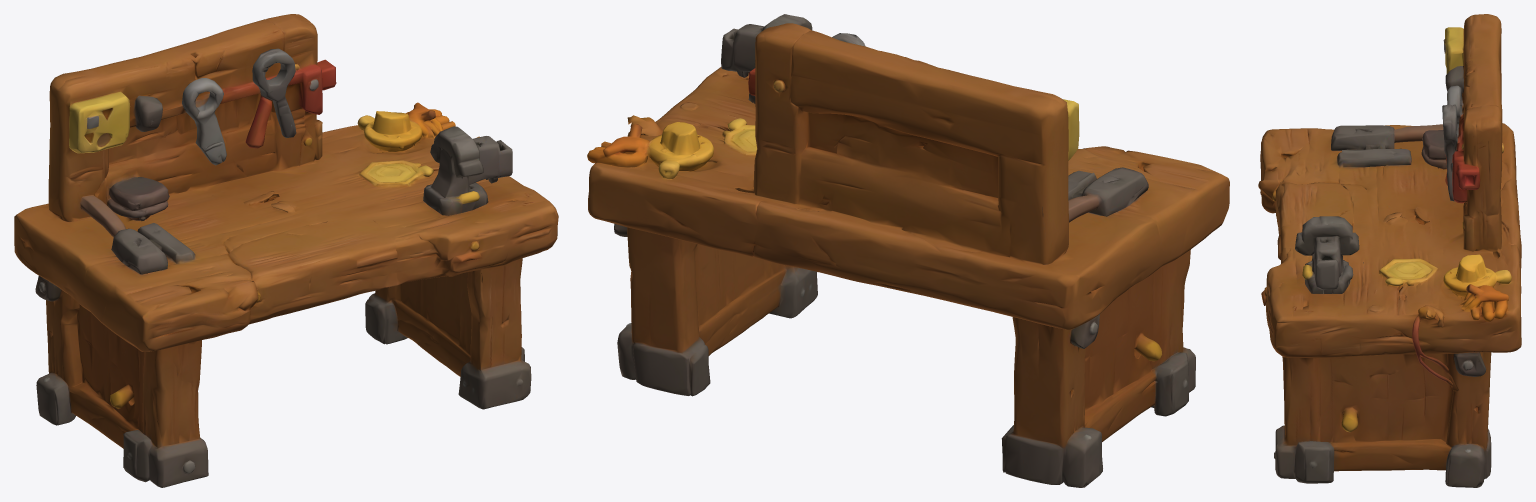
The model's file is workbench.glb.
3 views of the same model, side by side, from view 1: azimuth 30°, elevation 25°; view 2: azimuth 150°, elevation 25°; view 3: azimuth 270°, elevation 25° (orthographic). The views are drawn at different scales.
Parts seen in each view (by area): view 1: tripo_node_49906129-32d6-45a3-87fe-d1ffe9ebb58e; view 2: tripo_node_49906129-32d6-45a3-87fe-d1ffe9ebb58e; view 3: tripo_node_49906129-32d6-45a3-87fe-d1ffe9ebb58e.
Part boxes in pixels (x1=…): tripo_node_49906129-32d6-45a3-87fe-d1ffe9ebb58e: x1=14, y1=14, x2=558, y2=487; tripo_node_49906129-32d6-45a3-87fe-d1ffe9ebb58e: x1=587, y1=14, x2=1229, y2=487; tripo_node_49906129-32d6-45a3-87fe-d1ffe9ebb58e: x1=1258, y1=14, x2=1521, y2=487.
Size of the model in its own units: 0.9824 by 0.7297 by 0.56.
Materials: 1 (1 with a texture image).
